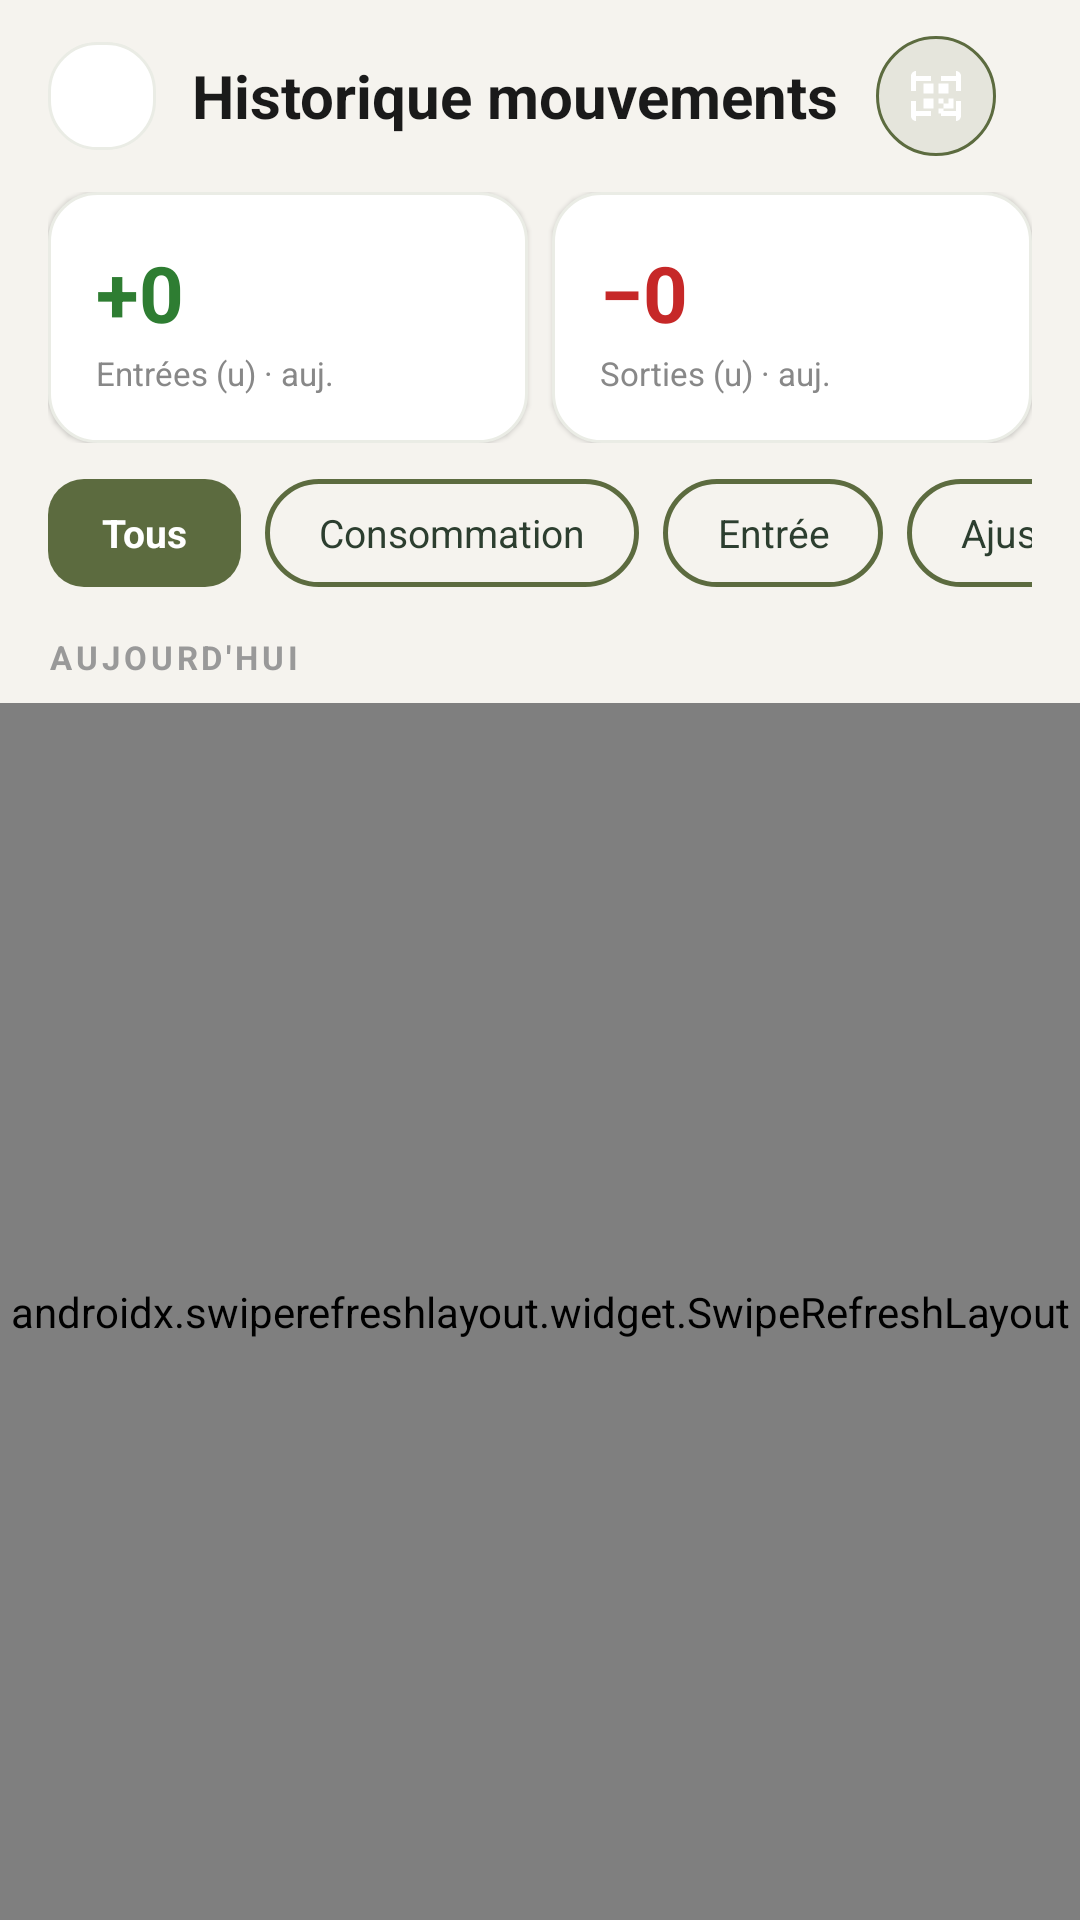

Icon click points for this 1080*1920 phone screenshot, format (x,y):
scan qr: (936,96)
